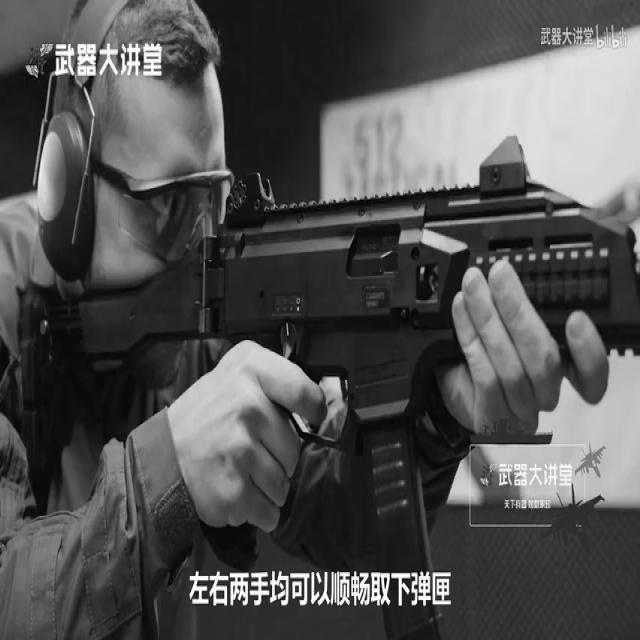Sub-machine-gun: (28, 164, 640, 459)
